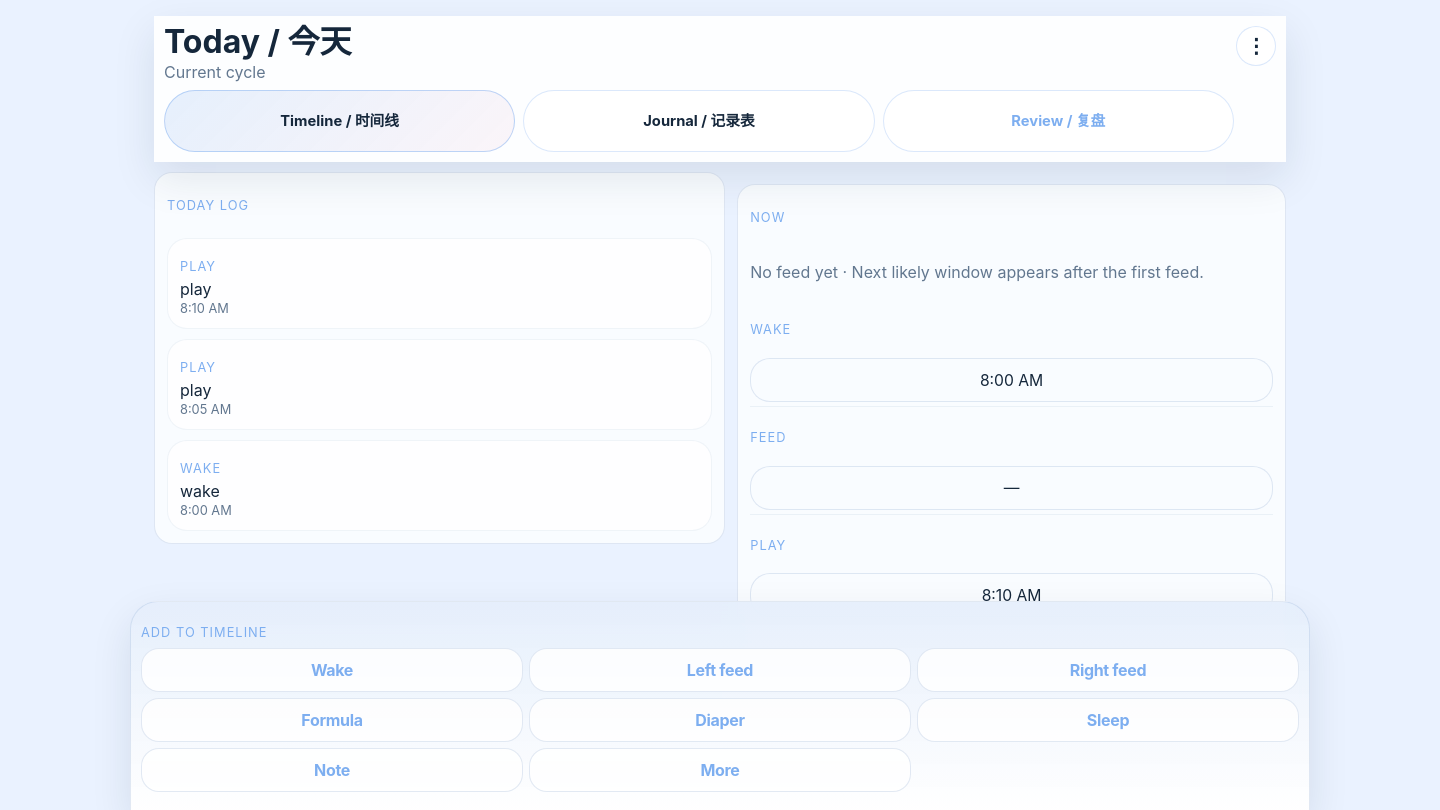
Test: correction merge parity › merge duplicate from Journal updates Timeline and Journal projections
This screenshot has width=1440, height=810.
Expected: the element with test id "journal-summary-startOfPlayTime" does not show "—"
Click the button "Journal / 记录表" at {"x": 699, "y": 121}, box x1=523 y1=90 x2=875 y2=152
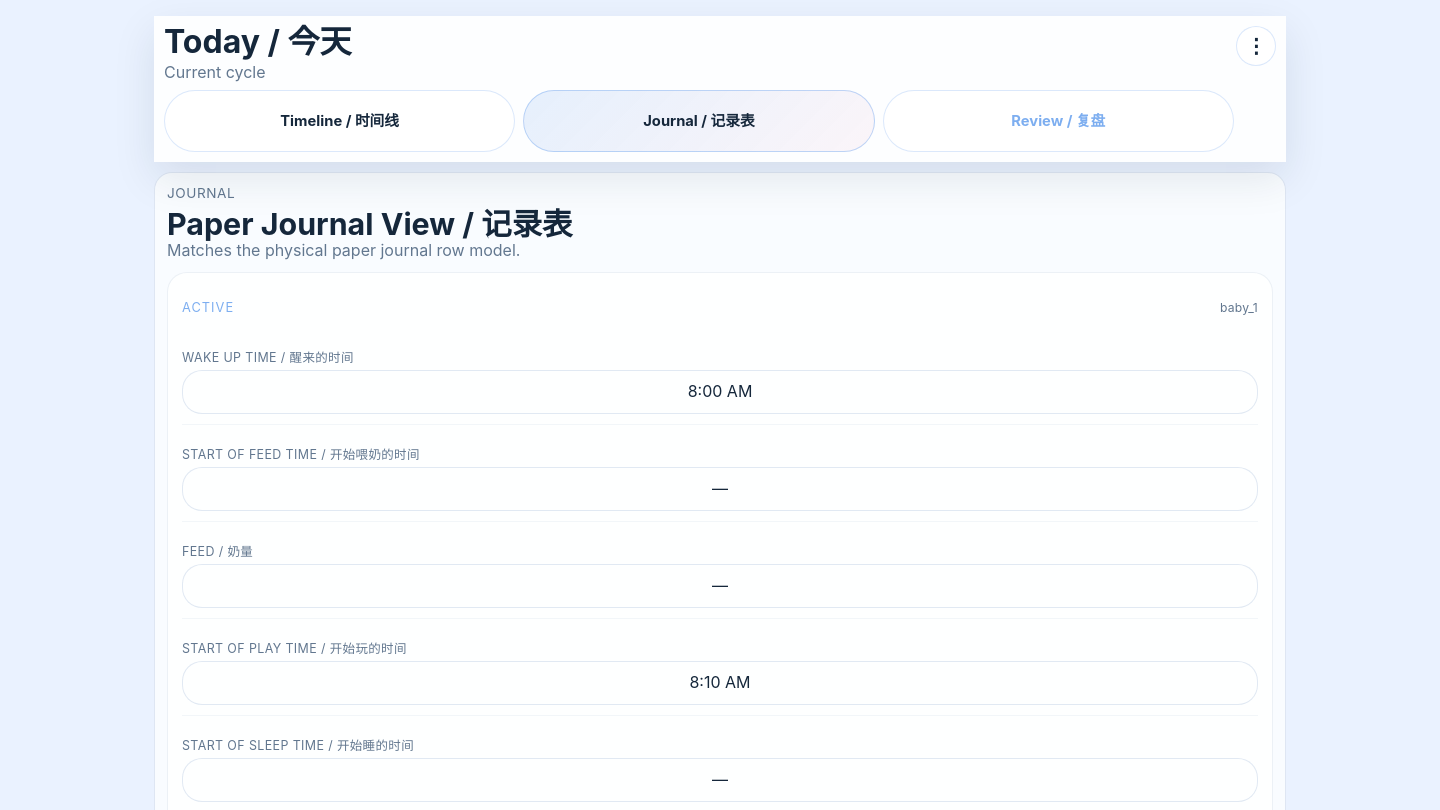
Click the button with test id "paper-journal-cell-startOfPlayTime" at {"x": 720, "y": 683}, box x1=182 y1=661 x2=1258 y2=705
(page scrolled)
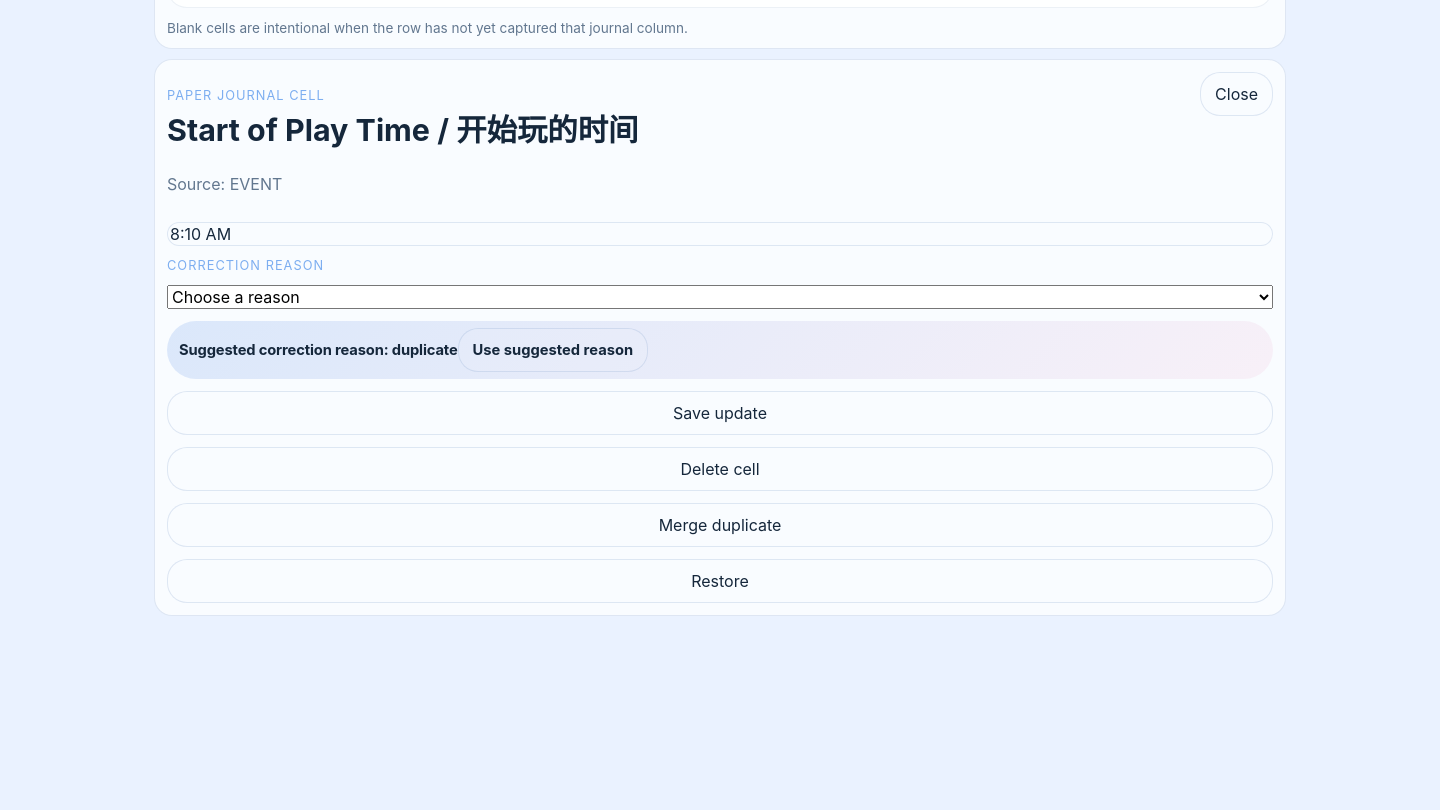
Now the element with test id "paper-journal-cell-edit-sheet" is shown, box x1=154 y1=59 x2=1286 y2=616
Click the button "Merge duplicate" at {"x": 720, "y": 525}, box x1=167 y1=503 x2=1273 y2=547
(page scrolled)
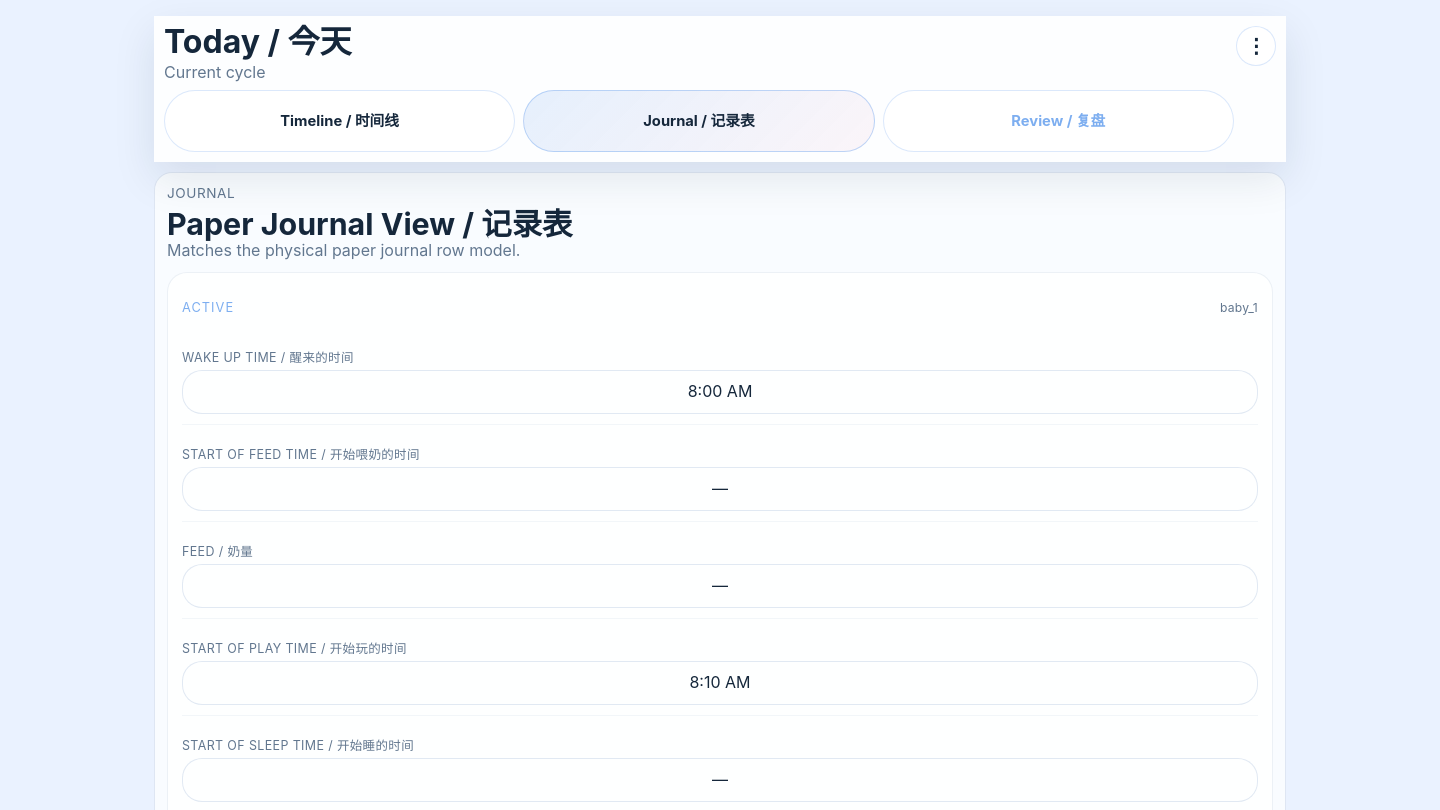
Click the button "Timeline / 时间线" at {"x": 340, "y": 121}, box x1=164 y1=90 x2=515 y2=152
(page scrolled)
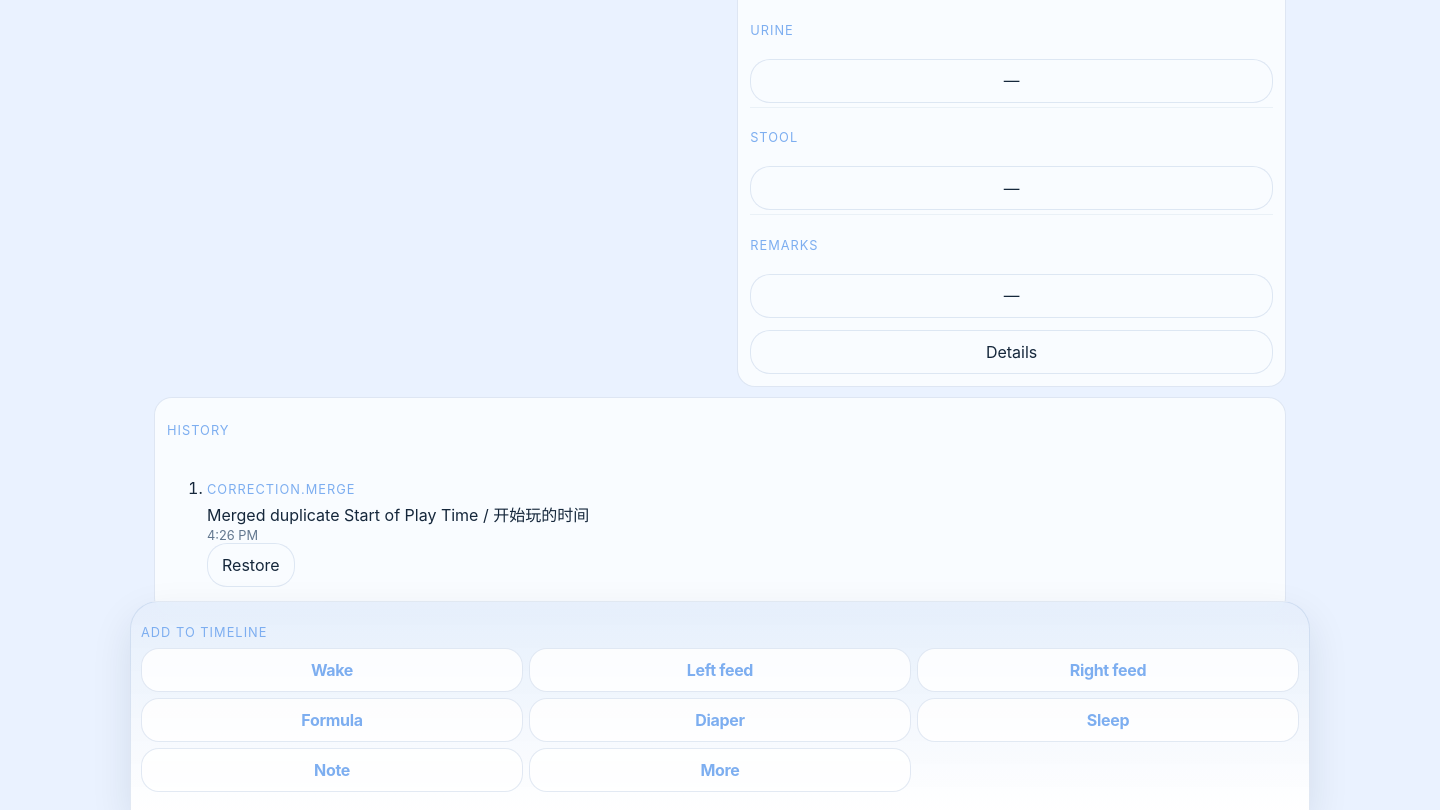
Now the list with test id "correction-history-items" shows "correction.merge", box x1=207 y1=482 x2=356 y2=497
